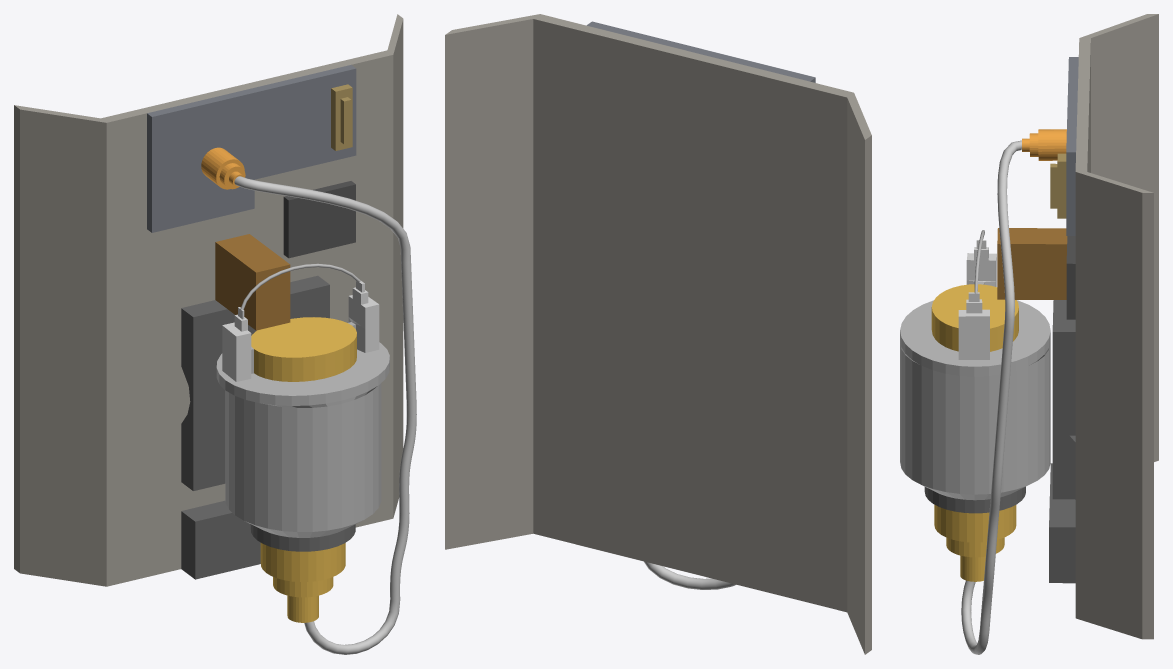
Rendered from gamma_ray_scaled.gltf.
3 renders of one model, left to right at view 1: azimuth 30°, elevation 25°; view 2: azimuth 150°, elevation 25°; view 3: azimuth 270°, elevation 25°, orthographic. The views are drawn at different scales.
Visible parts, largest first — view 1: Cube, Cylinder.014, Cylinder.003, BezierCurve.004, Cylinder.004; view 2: Cube, BezierCurve.004; view 3: Cube, Cylinder.014, Cylinder.003, BezierCurve.004, Cylinder.004.
Boxes of the visible parts, x1=… form: Cube: x1=14, y1=14, x2=403, y2=586; Cylinder.014: x1=216, y1=342, x2=389, y2=531; Cylinder.003: x1=222, y1=281, x2=379, y2=622; BezierCurve.004: x1=234, y1=176, x2=416, y2=654; Cylinder.004: x1=201, y1=147, x2=245, y2=189; Cube: x1=445, y1=14, x2=871, y2=654; BezierCurve.004: x1=644, y1=561, x2=736, y2=589; Cube: x1=997, y1=14, x2=1158, y2=639; Cylinder.014: x1=900, y1=300, x2=1050, y2=494; Cylinder.003: x1=922, y1=240, x2=1025, y2=581; BezierCurve.004: x1=961, y1=140, x2=1021, y2=654; Cylinder.004: x1=1022, y1=129, x2=1066, y2=160.
Size of the model in its own units: 0.0416 by 0.056 by 0.0254.
